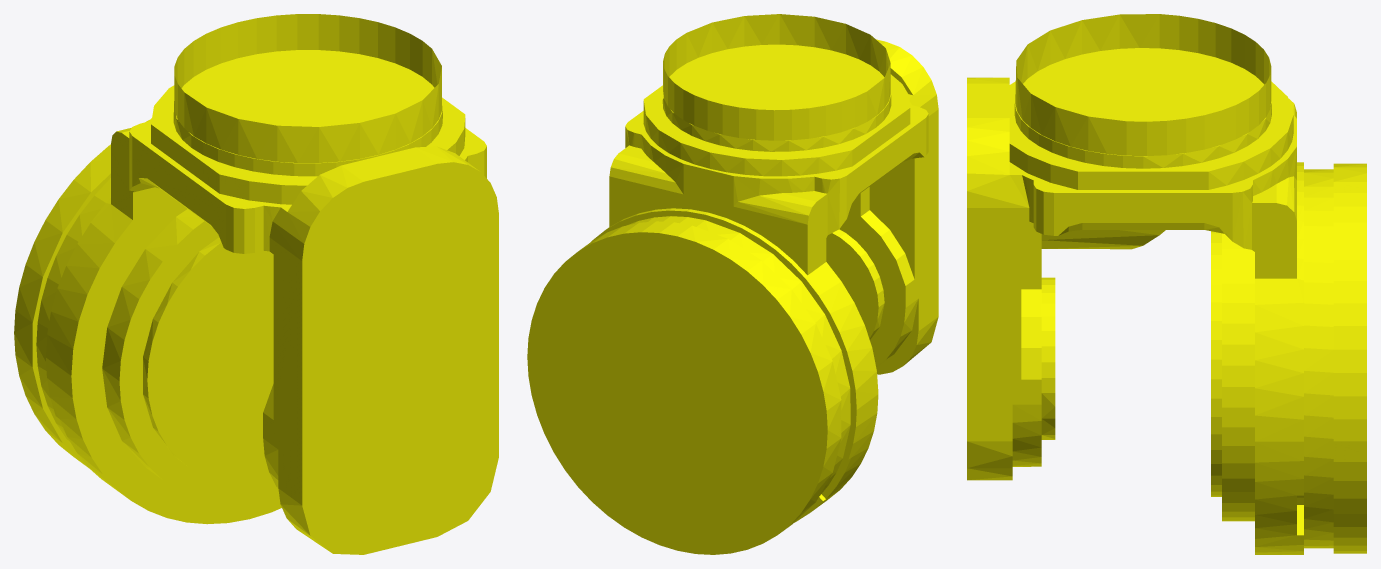
3 views of the same model, side by side, from view 1: azimuth 30°, elevation 25°; view 2: azimuth 150°, elevation 25°; view 3: azimuth 270°, elevation 25° (orthographic). The views are drawn at different scales.
Visible parts, largest first — view 1: node; view 2: node; view 3: node.
Boxes of the visible parts, left/top/right/bottom form: node: left=14, top=14, right=498, bottom=554; node: left=527, top=14, right=938, bottom=554; node: left=967, top=14, right=1366, bottom=554.
Bounding box in the file's own units: 290 × 382 × 295.
